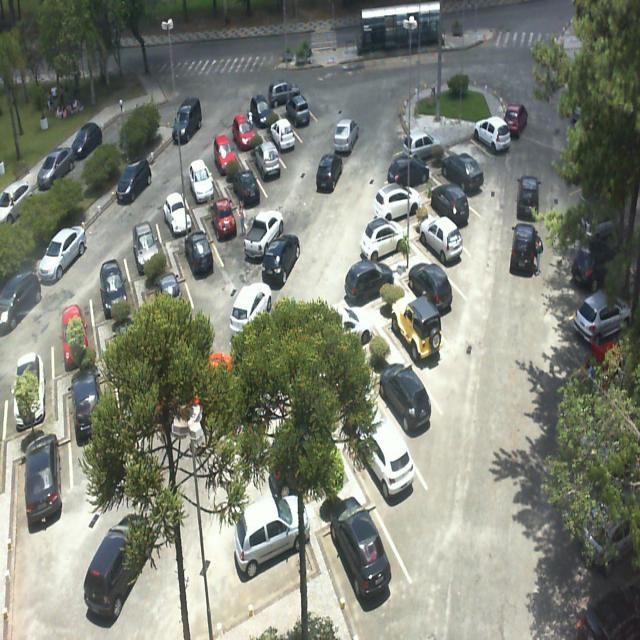space-empty: (449, 122, 492, 168)
space-occupied: (322, 488, 402, 620), (235, 500, 324, 608), (351, 401, 425, 521), (386, 287, 451, 382), (374, 355, 440, 444), (405, 251, 459, 328), (416, 205, 469, 274), (339, 250, 398, 310), (94, 245, 136, 324), (426, 173, 478, 236), (356, 215, 414, 266), (368, 176, 426, 226), (437, 147, 489, 200), (126, 214, 167, 279), (181, 222, 220, 290), (158, 180, 196, 242), (204, 189, 243, 248), (229, 159, 267, 218), (380, 150, 434, 190), (265, 107, 303, 157), (205, 125, 240, 179), (225, 105, 261, 156), (183, 151, 218, 202), (248, 134, 285, 182), (282, 88, 318, 134), (399, 126, 442, 159), (245, 87, 276, 132)
